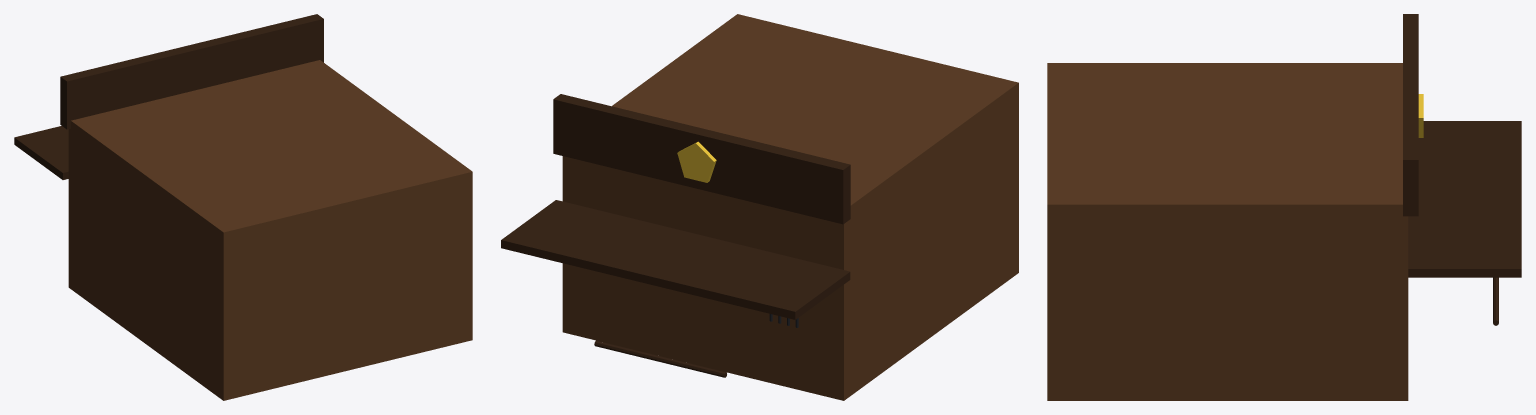
File: sheriff_office.obj
3 renders of one model, left to right at view 1: azimuth 30°, elevation 25°; view 2: azimuth 150°, elevation 25°; view 3: azimuth 270°, elevation 25°, orthographic. The views are drawn at different scales.
Parts seen in each view (by area): view 1: Cube, Cube.001, Cube.002; view 2: Cube, Cube.002, Cube.001, Cylinder, Cylinder.005; view 3: Cube, Cube.002, Cube.001.
Boxes of the visible parts, x1,y1,x2,y2 form: Cube: (68,60,472,400); Cube.001: (60,14,323,129); Cube.002: (14,126,68,179); Cube: (562,14,1018,400); Cube.002: (501,200,850,319); Cube.001: (553,94,850,224); Cylinder: (677,141,716,182); Cylinder.005: (594,340,726,377); Cube: (1047,63,1408,400); Cube.002: (1408,121,1521,277); Cube.001: (1403,14,1418,216).
Bounding box in the file's own units: 6.8 × 5.2 × 9.2.
